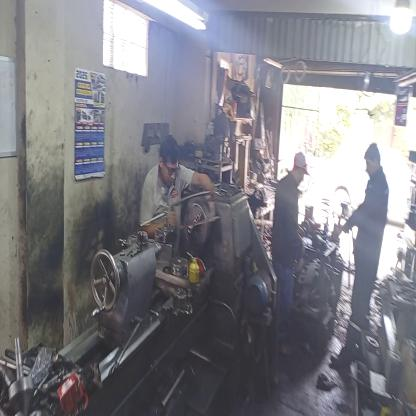lentes: (163, 156, 180, 180)
